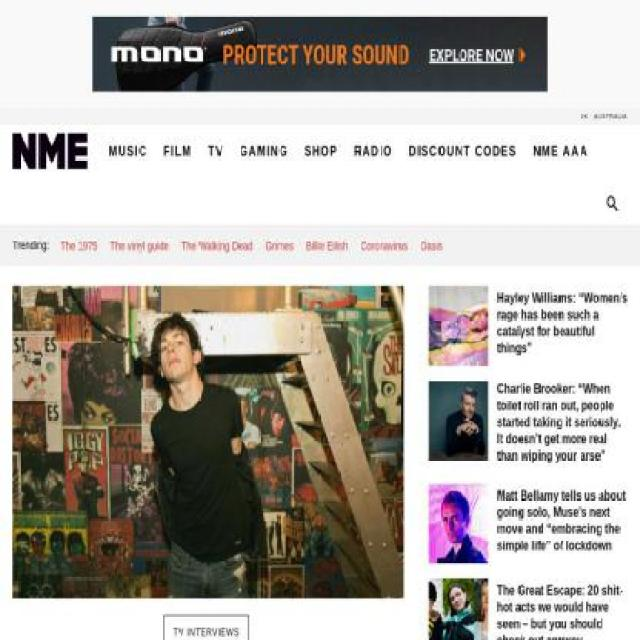button: (12, 286, 405, 599), (409, 124, 533, 178), (428, 380, 489, 462), (428, 483, 489, 565), (428, 286, 489, 366), (532, 124, 605, 178), (428, 578, 489, 639), (240, 124, 306, 178), (175, 226, 259, 266), (12, 133, 94, 170), (108, 124, 164, 178), (354, 124, 409, 178), (103, 226, 175, 266), (304, 124, 354, 178), (353, 226, 415, 266), (163, 124, 208, 178), (299, 226, 355, 266), (164, 615, 250, 639), (53, 226, 104, 266), (208, 124, 240, 178), (258, 226, 300, 266), (414, 226, 449, 266), (588, 108, 628, 125), (574, 108, 589, 125)
